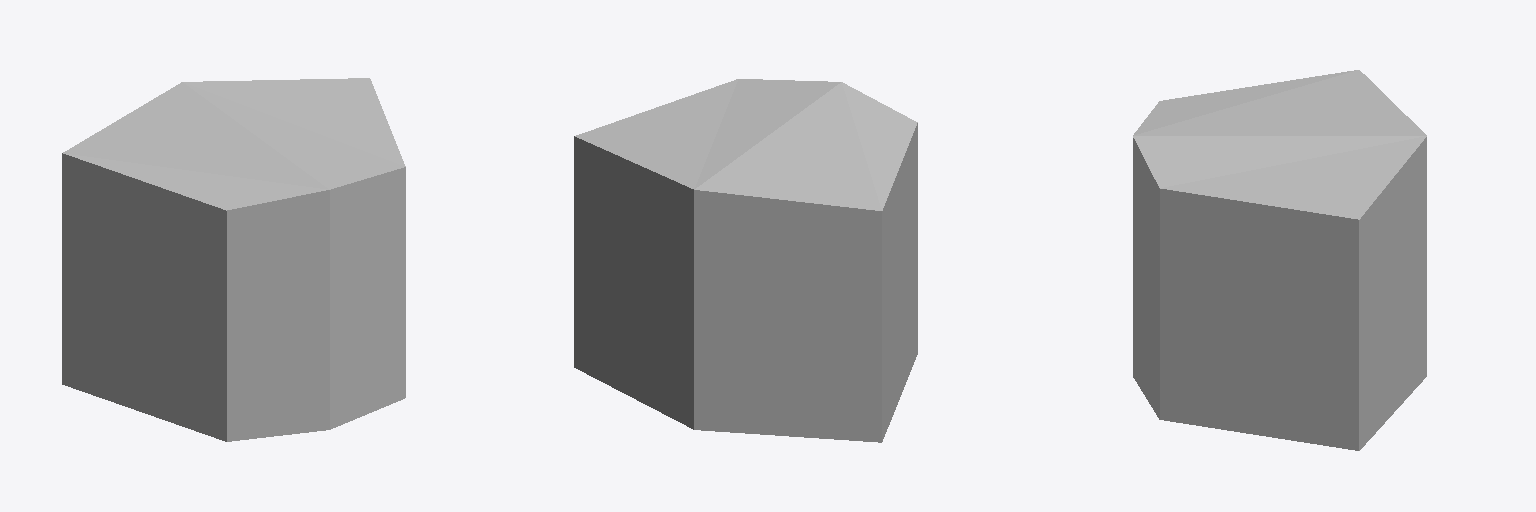
Rendered from engine.obj.
3 renders of one model, left to right at view 1: azimuth 30°, elevation 25°; view 2: azimuth 150°, elevation 25°; view 3: azimuth 270°, elevation 25°, orthographic.
Visible parts, largest first — view 1: engine_Cube.002; view 2: engine_Cube.002; view 3: engine_Cube.002.
Boxes of the visible parts, <box> form: engine_Cube.002: <box>62,78,405,441</box>; engine_Cube.002: <box>574,79,917,442</box>; engine_Cube.002: <box>1133,70,1426,450</box>.
Size of the model in its own units: 3.87 by 2.89 by 3.21.